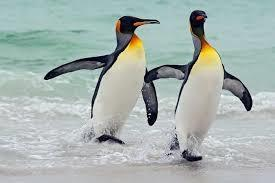king: (45, 8, 160, 153), (160, 7, 251, 169)
